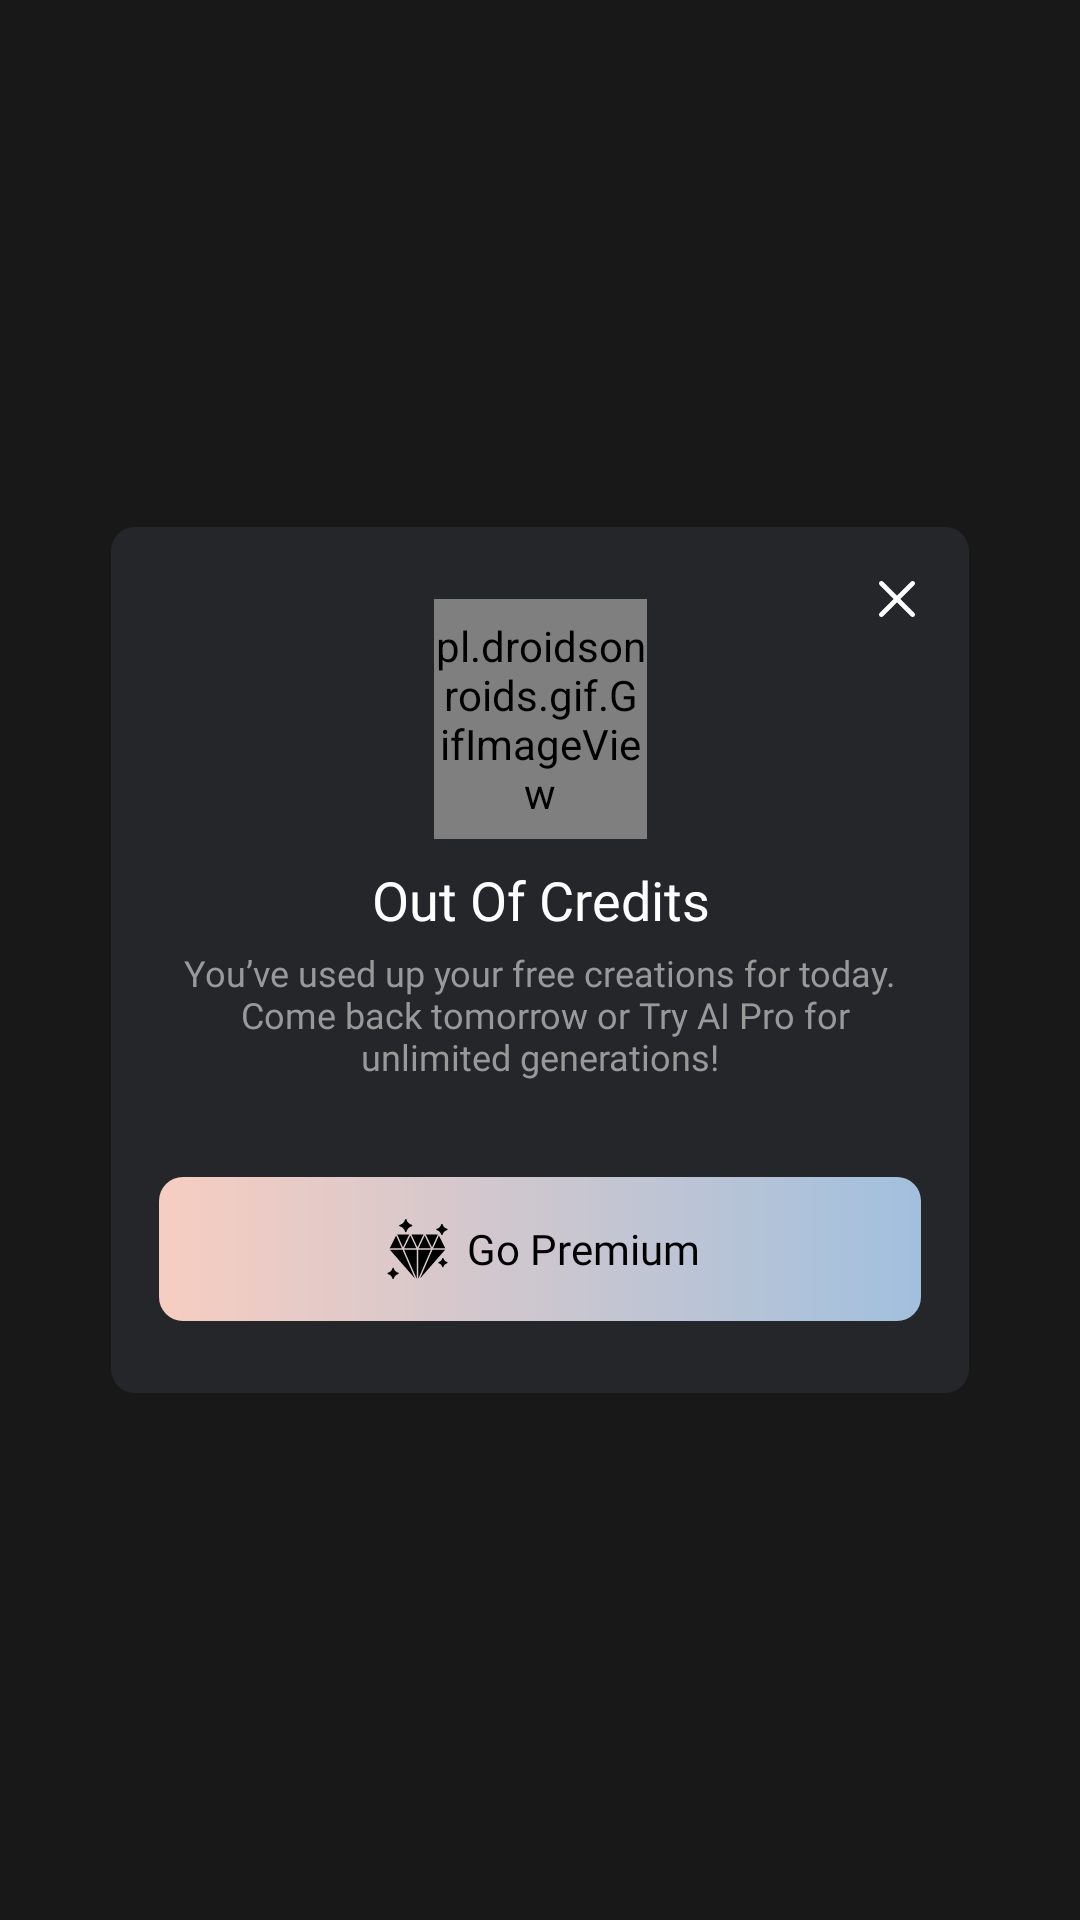

Named icons in this screenshot (1080px x 1920px) and their centers, (x=x, y=y):
close: (x=897, y=599)
diamond: (x=417, y=1249)
